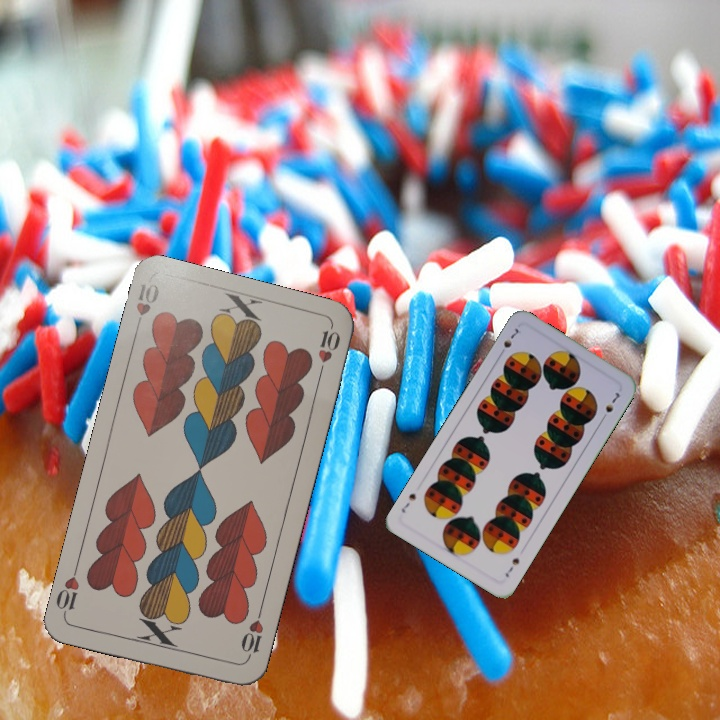H10: (130, 279, 162, 336), (236, 606, 266, 664)
S7: (495, 324, 523, 359), (501, 554, 522, 580)
